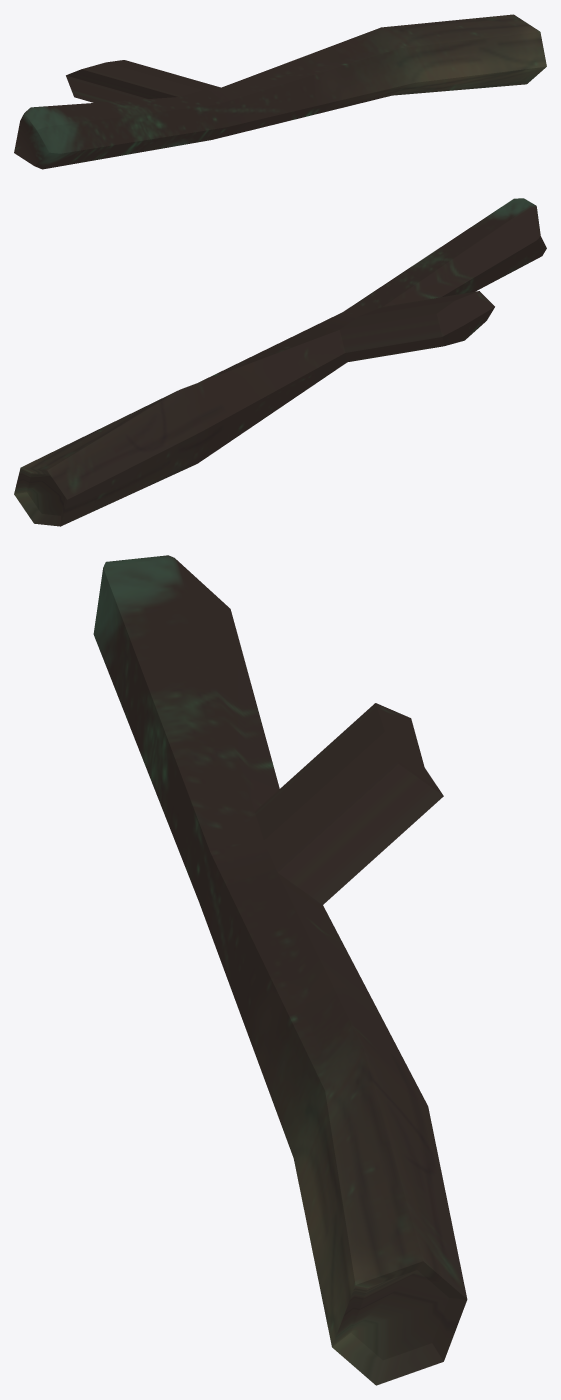
The model's file is polysurface180_lambert6_0.005_lev2.glb.
3 renders of one model, top to bottom at view 1: azimuth 30°, elevation 25°; view 2: azimuth 210°, elevation 25°; view 3: azimuth 270°, elevation 25°, orthographic. The views are drawn at different scales.
Visible parts, largest first — view 1: polysurface180_lambert6_0.005_lev2; view 2: polysurface180_lambert6_0.005_lev2; view 3: polysurface180_lambert6_0.005_lev2.
Boxes of the visible parts, box(x1,y1,x2,y2) form: polysurface180_lambert6_0.005_lev2: box(14, 14, 546, 169); polysurface180_lambert6_0.005_lev2: box(14, 198, 546, 526); polysurface180_lambert6_0.005_lev2: box(93, 555, 467, 1385).
Bounding box in the file's own units: 1.05 × 0.2603 × 0.2996.
Materials: 1 (1 with a texture image).
